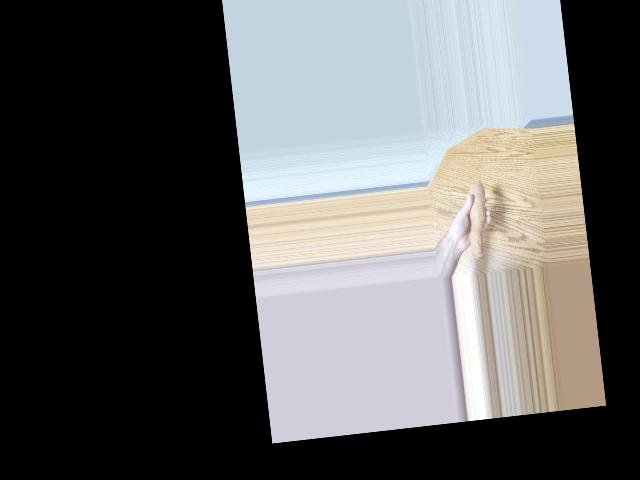sweet_potato: (461, 178, 494, 261)
